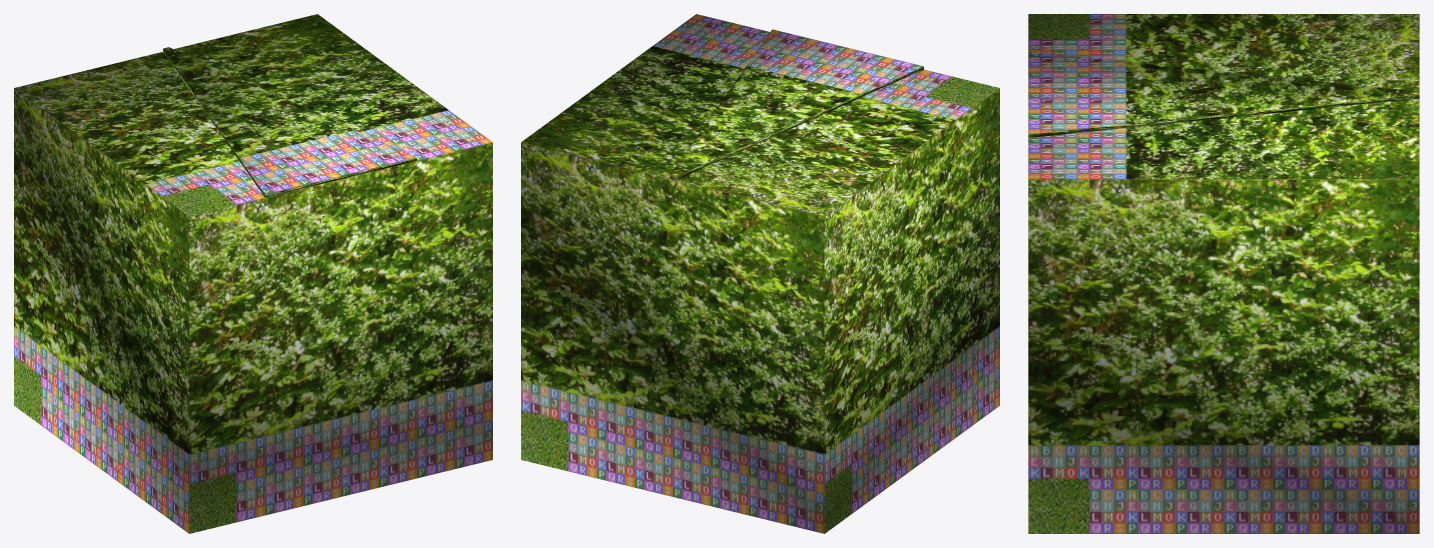
Rendered from Cursor.obj.
The picture shows the model from 3 angles, left to right: view 1: azimuth 30°, elevation 25°; view 2: azimuth 150°, elevation 25°; view 3: azimuth 270°, elevation 25°; orthographic projection. The views are drawn at different scales.
Visible parts, largest first — view 1: cube2_cube2_auv4, cube2_cube2_auv3; view 2: cube2_cube2_auv4, cube2_cube2_auv3; view 3: cube2_cube2_auv4, cube2_cube2_auv3.
Part boxes in pixels (x1,y1,x2,y2): cube2_cube2_auv4: [14, 14, 492, 533]; cube2_cube2_auv3: [163, 47, 416, 197]; cube2_cube2_auv4: [521, 14, 999, 533]; cube2_cube2_auv3: [670, 29, 923, 179]; cube2_cube2_auv4: [1028, 14, 1419, 533]; cube2_cube2_auv3: [1028, 52, 1419, 137].
Bounding box in the file's own units: 1 × 1.01 × 1.
Materials: 2 (2 with a texture image).
